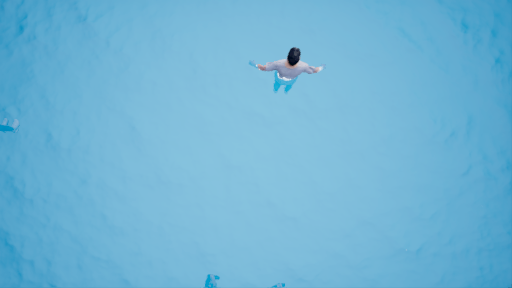person: (237, 40, 327, 98)
